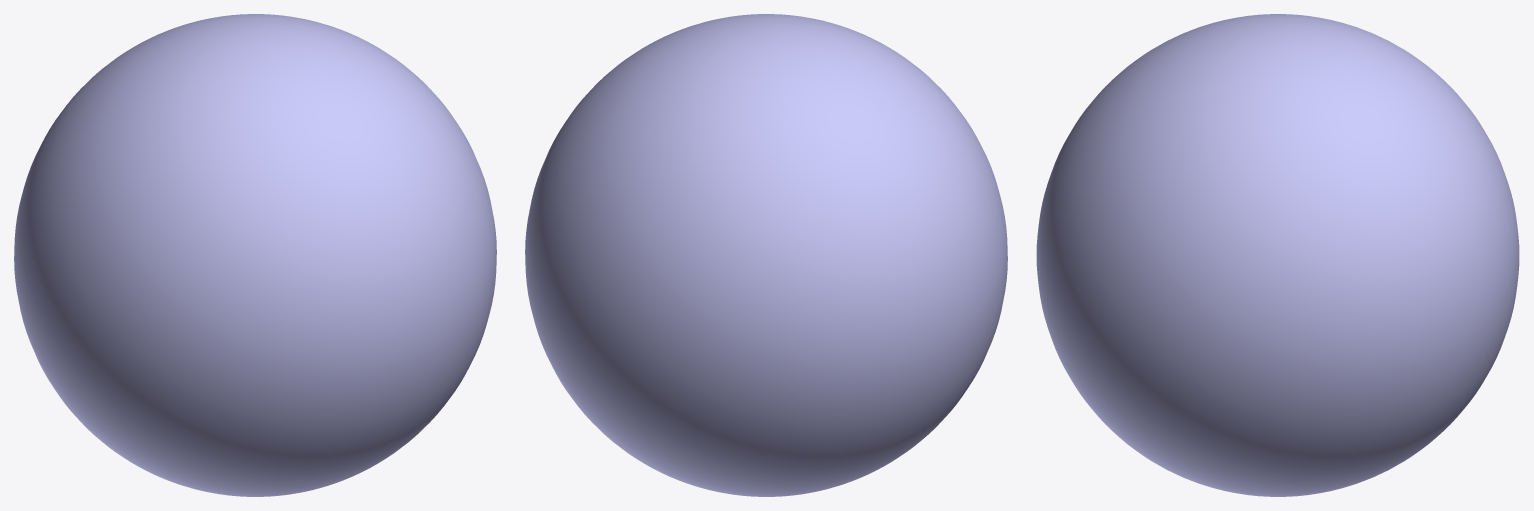
Rendered from flow_4.glb.
The picture shows the model from 3 angles, left to right: view 1: azimuth 30°, elevation 25°; view 2: azimuth 150°, elevation 25°; view 3: azimuth 270°, elevation 25°; orthographic projection.
Visible parts, largest first — view 1: Sphere; view 2: Sphere; view 3: Sphere.
Part boxes in pixels (x1,y1,x2,y2): Sphere: (14, 14, 496, 496); Sphere: (525, 14, 1007, 496); Sphere: (1036, 14, 1519, 496).
Bounding box in the file's own units: 1 × 1 × 1.
